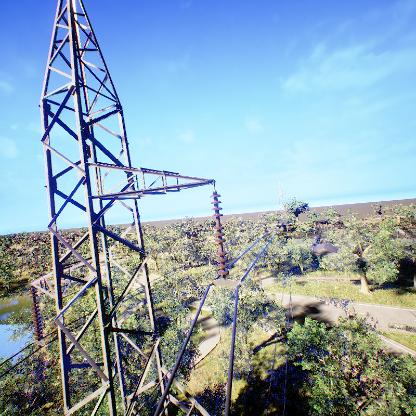insulator: (208, 193, 231, 280), (28, 285, 45, 342)
